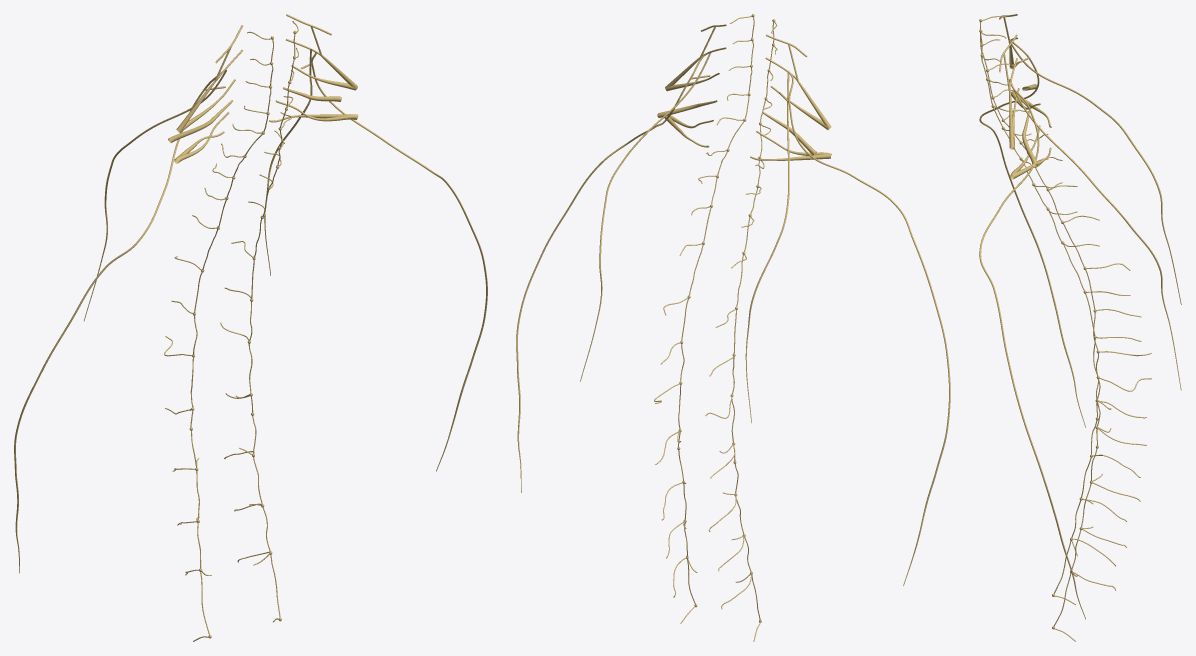
The model's file is detail-nervous-neck.glb.
3 renders of one model, left to right at view 1: azimuth 30°, elevation 25°; view 2: azimuth 150°, elevation 25°; view 3: azimuth 270°, elevation 25°, orthographic. The views are drawn at different scales.
Visible parts, largest first — view 1: za-6e843c4da6ddd2fa, za-33bc64f942d762f2, za-e68c5d0167858d65, za-59356aa0f29bad30, za-462fe7a259efc858, za-6b165149cb45a181, za-77136aaf70a749b2, za-c6723ea99f967276, za-b0aa8ad1e3e666b1; view 2: za-6e843c4da6ddd2fa, za-e68c5d0167858d65, za-59356aa0f29bad30, za-33bc64f942d762f2, za-6b165149cb45a181, za-462fe7a259efc858, za-c6723ea99f967276, za-77136aaf70a749b2, za-b1041bdfdfd8a3ef, za-b0aa8ad1e3e666b1; view 3: za-59356aa0f29bad30, za-33bc64f942d762f2, za-6b165149cb45a181, za-e68c5d0167858d65, za-c6723ea99f967276, za-77136aaf70a749b2, za-462fe7a259efc858, za-b1041bdfdfd8a3ef, za-b0aa8ad1e3e666b1, za-6e843c4da6ddd2fa.
Boxes of the visible parts, x1,y1,x2,y2 form: za-6e843c4da6ddd2fa: [168, 25, 243, 163]; za-33bc64f942d762f2: [269, 14, 358, 122]; za-e68c5d0167858d65: [14, 71, 225, 573]; za-59356aa0f29bad30: [300, 52, 487, 471]; za-462fe7a259efc858: [190, 31, 273, 641]; za-6b165149cb45a181: [248, 21, 298, 622]; za-77136aaf70a749b2: [164, 58, 269, 575]; za-c6723ea99f967276: [220, 47, 298, 565]; za-b0aa8ad1e3e666b1: [84, 69, 226, 321]; za-6e843c4da6ddd2fa: [750, 34, 831, 160]; za-e68c5d0167858d65: [779, 72, 950, 585]; za-59356aa0f29bad30: [516, 52, 710, 492]; za-33bc64f942d762f2: [657, 24, 726, 147]; za-6b165149cb45a181: [678, 16, 754, 623]; za-462fe7a259efc858: [731, 21, 776, 641]; za-c6723ea99f967276: [654, 39, 750, 597]; za-77136aaf70a749b2: [705, 45, 777, 609]; za-b1041bdfdfd8a3ef: [580, 53, 710, 381]; za-b0aa8ad1e3e666b1: [745, 70, 789, 423]; za-59356aa0f29bad30: [979, 81, 1085, 619]; za-33bc64f942d762f2: [999, 34, 1051, 179]; za-6b165149cb45a181: [980, 32, 1100, 641]; za-e68c5d0167858d65: [979, 41, 1085, 427]; za-c6723ea99f967276: [982, 56, 1151, 590]; za-77136aaf70a749b2: [983, 39, 1151, 566]; za-462fe7a259efc858: [980, 16, 1100, 604]; za-b1041bdfdfd8a3ef: [1009, 79, 1181, 390]; za-b0aa8ad1e3e666b1: [1008, 39, 1181, 304]; za-6e843c4da6ddd2fa: [999, 14, 1051, 127].
Size of the model in its own units: 0.2873 by 0.3717 by 0.1138.
